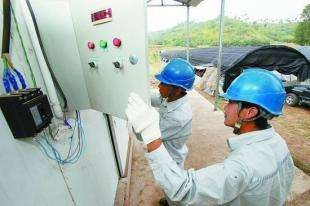blue: (221, 67, 286, 134), (155, 57, 194, 100)
